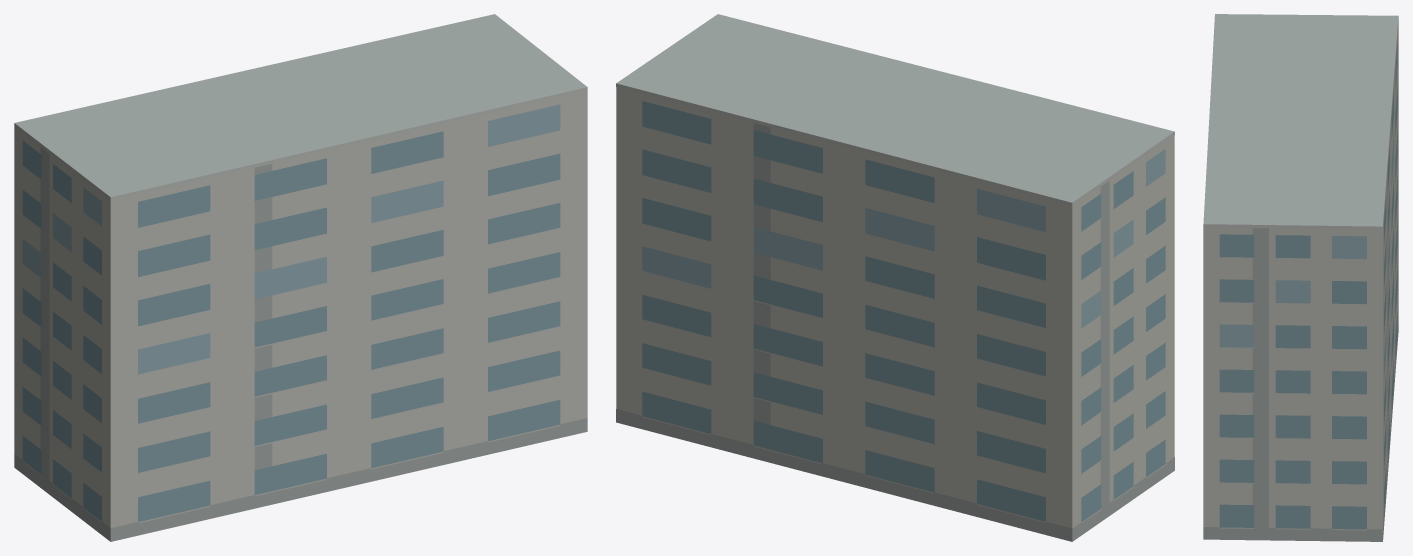
File: survey-upis-32571361.glb
The picture shows the model from 3 angles, left to right: view 1: azimuth 30°, elevation 25°; view 2: azimuth 150°, elevation 25°; view 3: azimuth 270°, elevation 25°; orthographic projection. The views are drawn at different scales.
Visible parts, largest first — view 1: survey-upis-32571361.tmp; view 2: survey-upis-32571361.tmp; view 3: survey-upis-32571361.tmp.
Part boxes in pixels (x1,y1,x2,y2): survey-upis-32571361.tmp: (14,14,587,541); survey-upis-32571361.tmp: (616,14,1174,541); survey-upis-32571361.tmp: (1203,14,1398,541).
Size of the model in its own units: 32.82 by 22.7 by 12.74.
